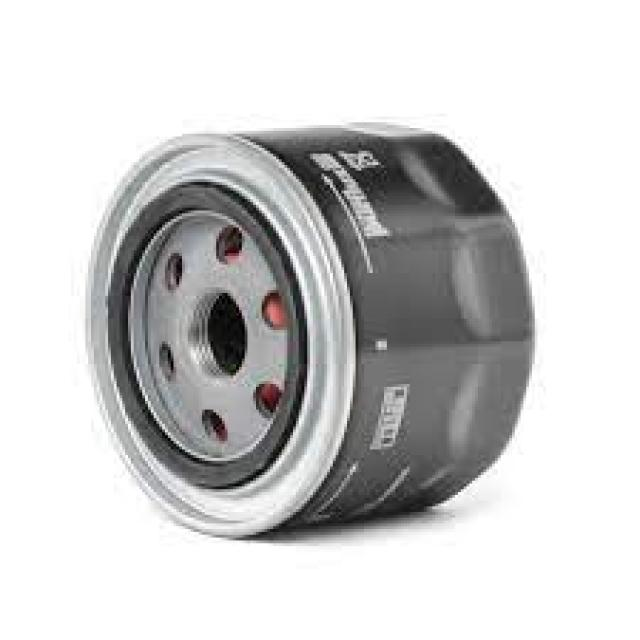oil_filter: (71, 113, 547, 547)
